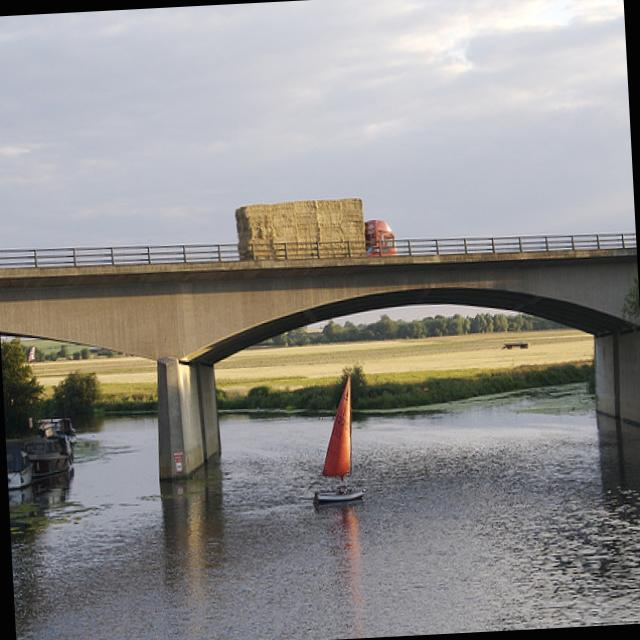Vehicle: (235, 196, 397, 264)
